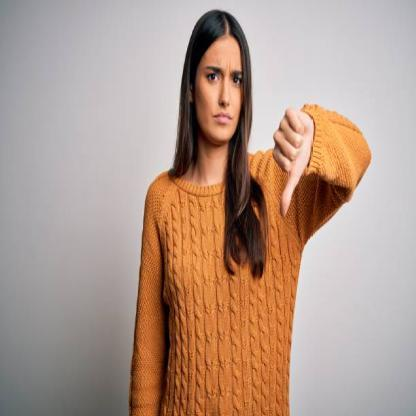thumb_down: (268, 102, 313, 220)
